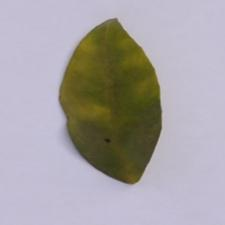Greening: (66, 19, 158, 180)
